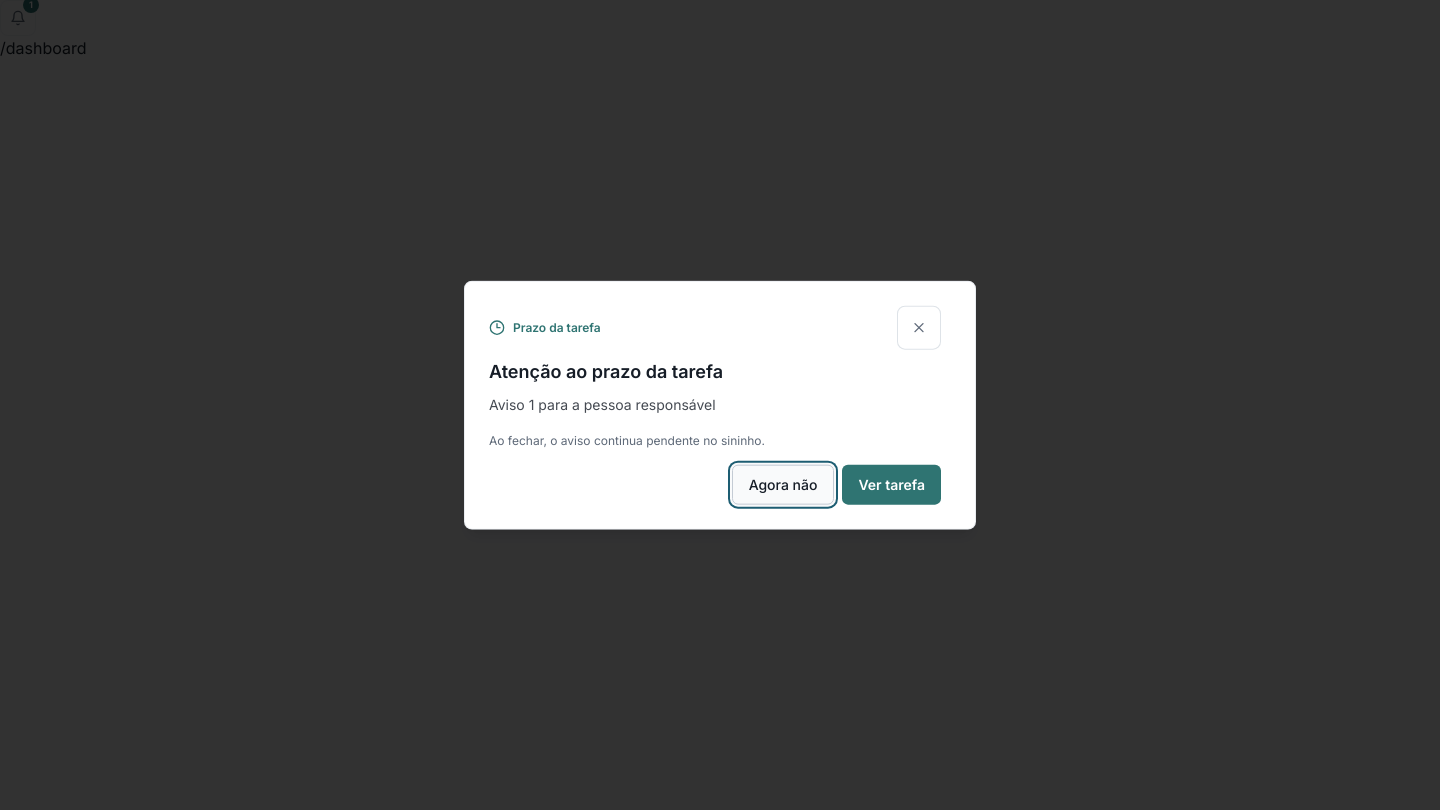
Test: avisos discretos de notificações › reserva o popup grande para TAREFA_VENCIMENTO e mantém o aviso no sininho ao fechar
Check: the button named "Notificações, 1 não lidas" is shown, box [0,0,36,36]
Click the button "Agora não".
click(783, 484)  # box [732,464,834,504]
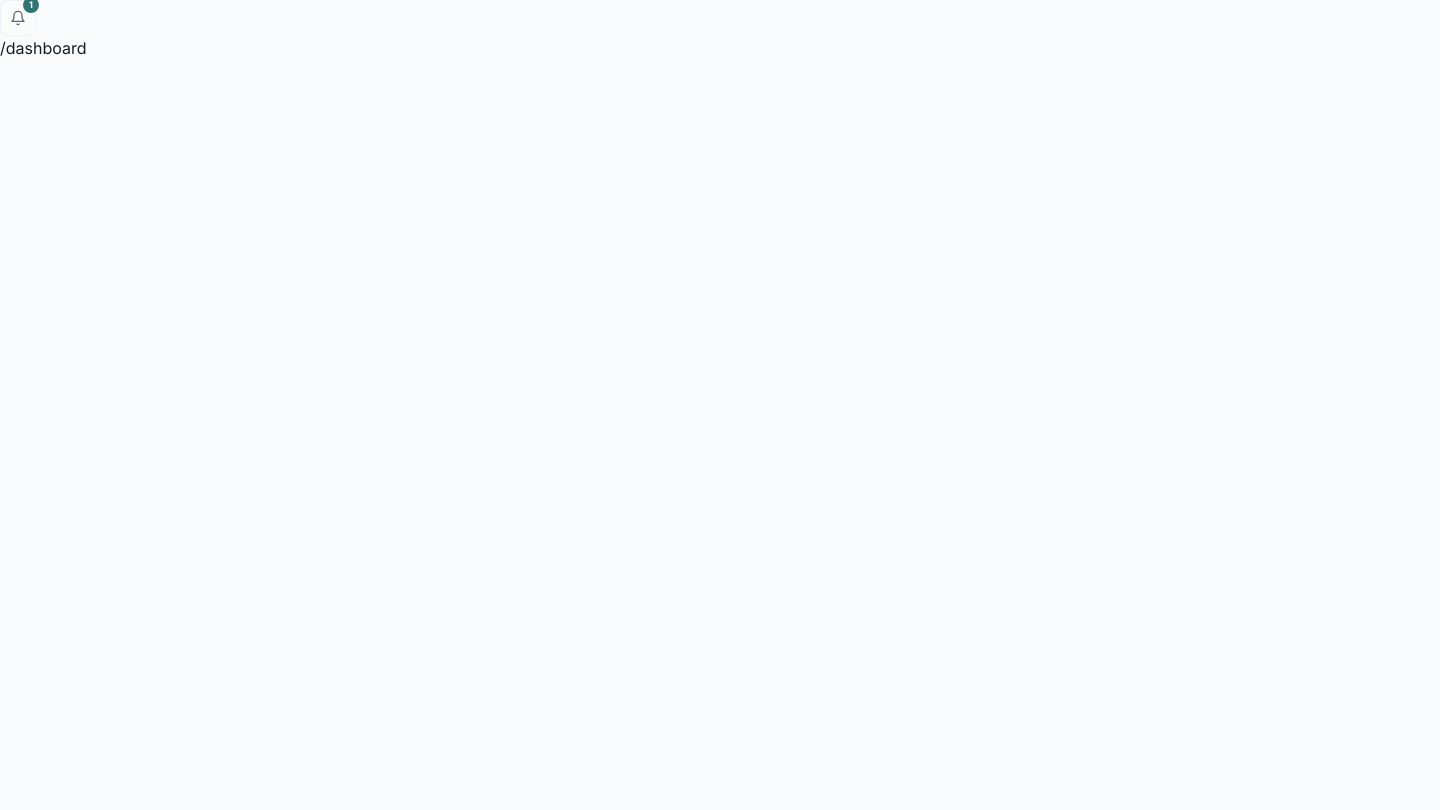
Check: the button named "Notificações, 1 não lidas" is shown, box [0,0,36,36]
Check: the dialog is gone
